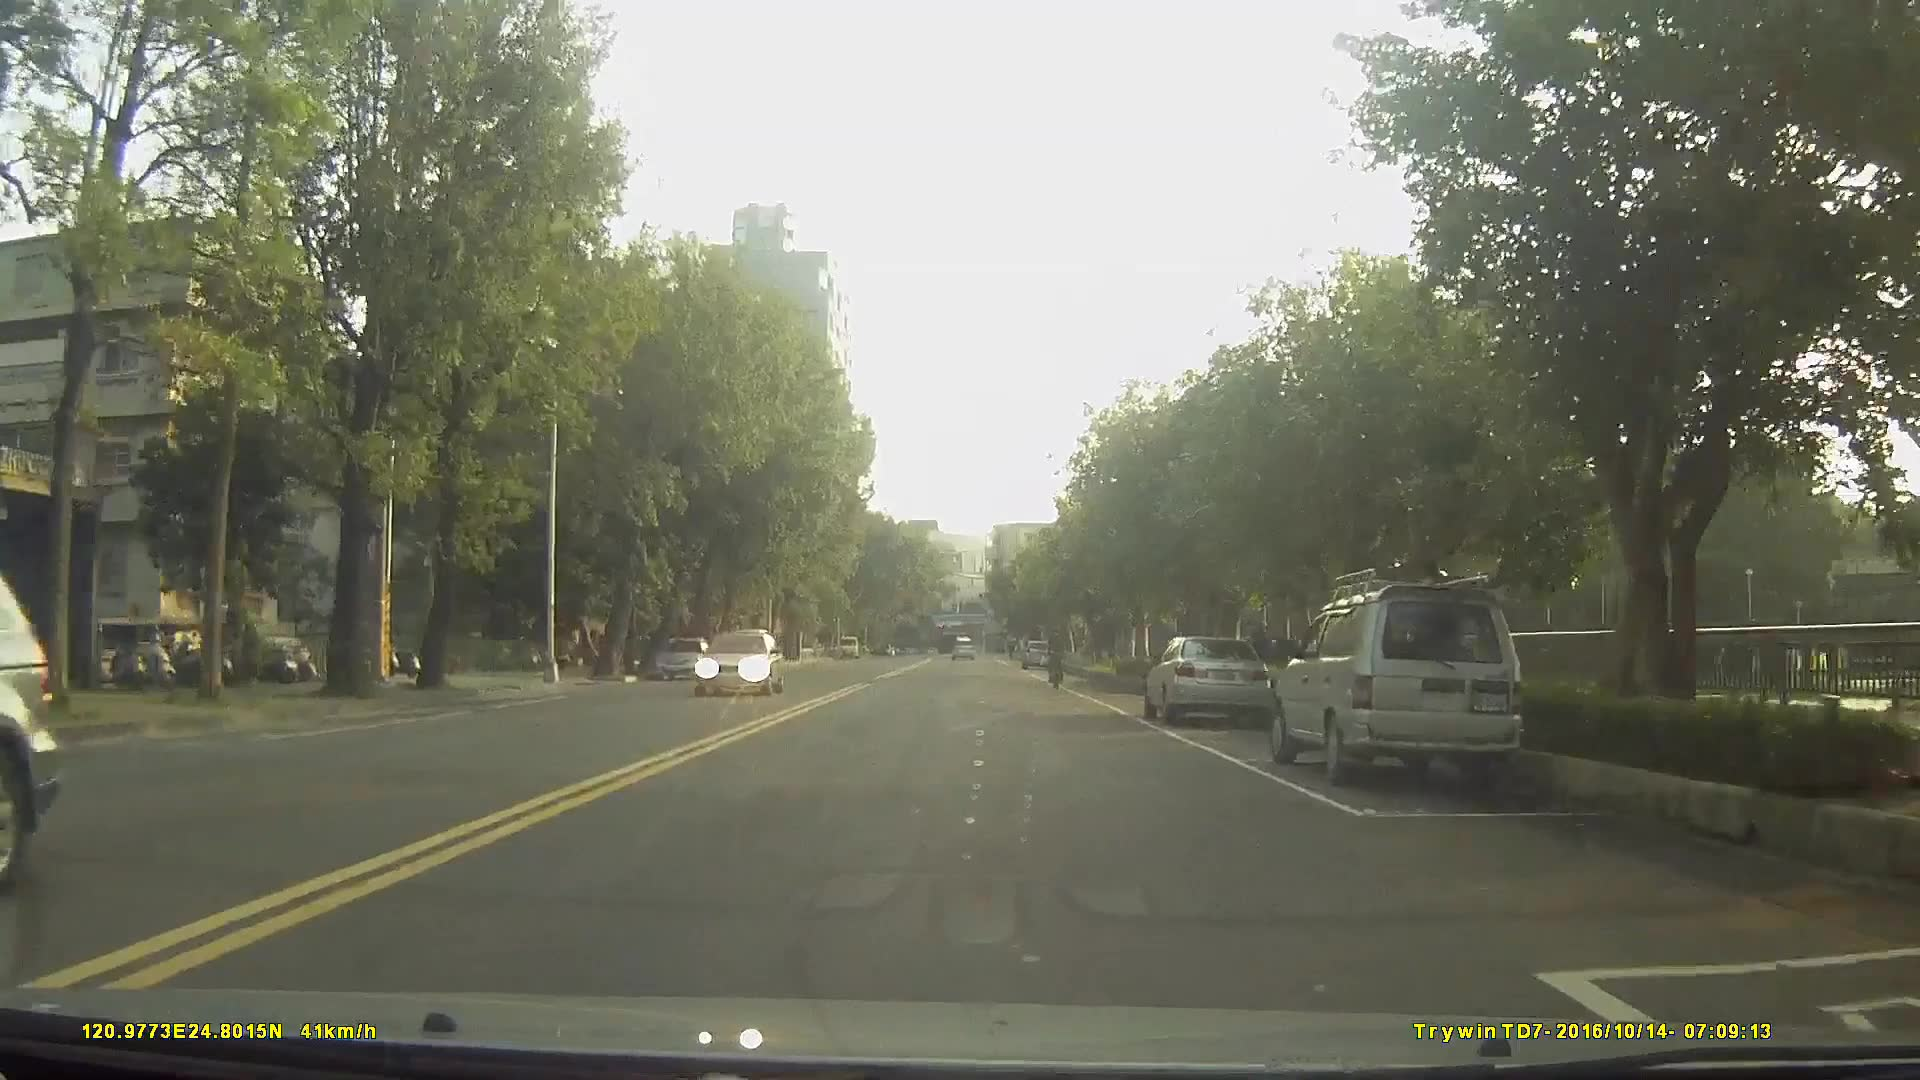rider: (1048, 623, 1070, 693)
vehicle: (1269, 575, 1523, 780), (1145, 632, 1276, 730), (689, 627, 787, 697), (652, 635, 711, 680), (724, 631, 771, 676), (1019, 636, 1052, 669), (947, 635, 975, 662)
